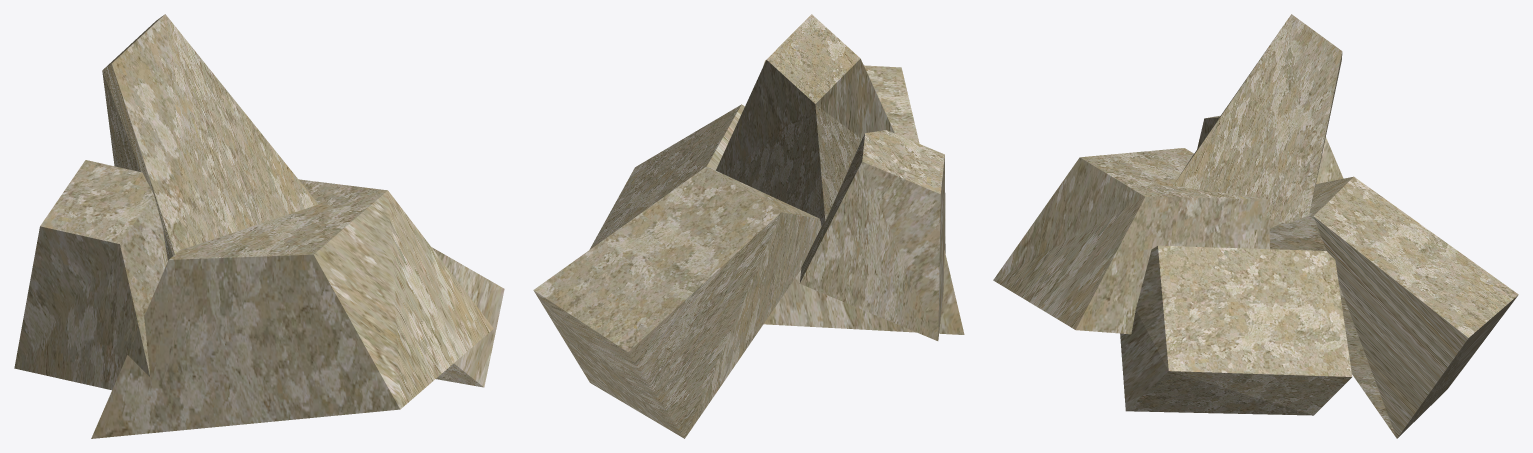
The model's file is rock_formation_l4.fbx.
3 renders of one model, left to right at view 1: azimuth 30°, elevation 25°; view 2: azimuth 150°, elevation 25°; view 3: azimuth 270°, elevation 25°, orthographic. The views are drawn at different scales.
Parts seen in each view (by area): view 1: mesh_node; view 2: mesh_node; view 3: mesh_node.
Boxes of the visible parts, left/top/right/bottom form: mesh_node: left=14, top=14, right=504, bottom=438; mesh_node: left=533, top=14, right=964, bottom=438; mesh_node: left=993, top=14, right=1518, bottom=438.
Size of the model in its own units: 8.98 by 8.63 by 11.59.
